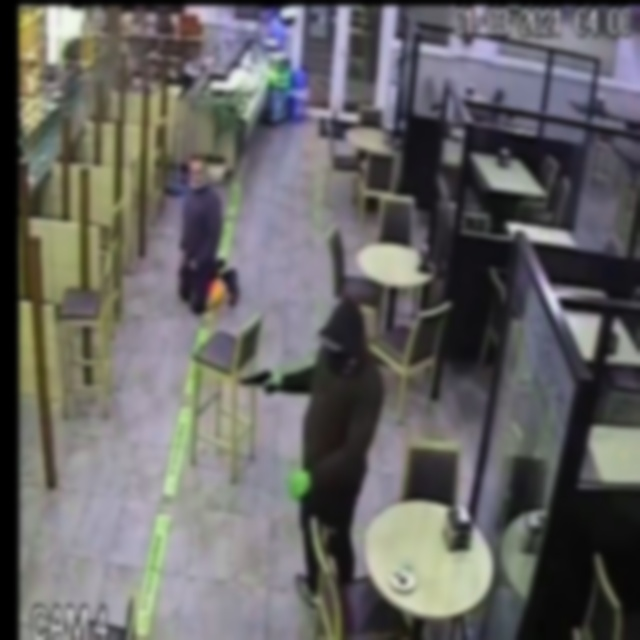gun: (230, 359, 286, 415)
